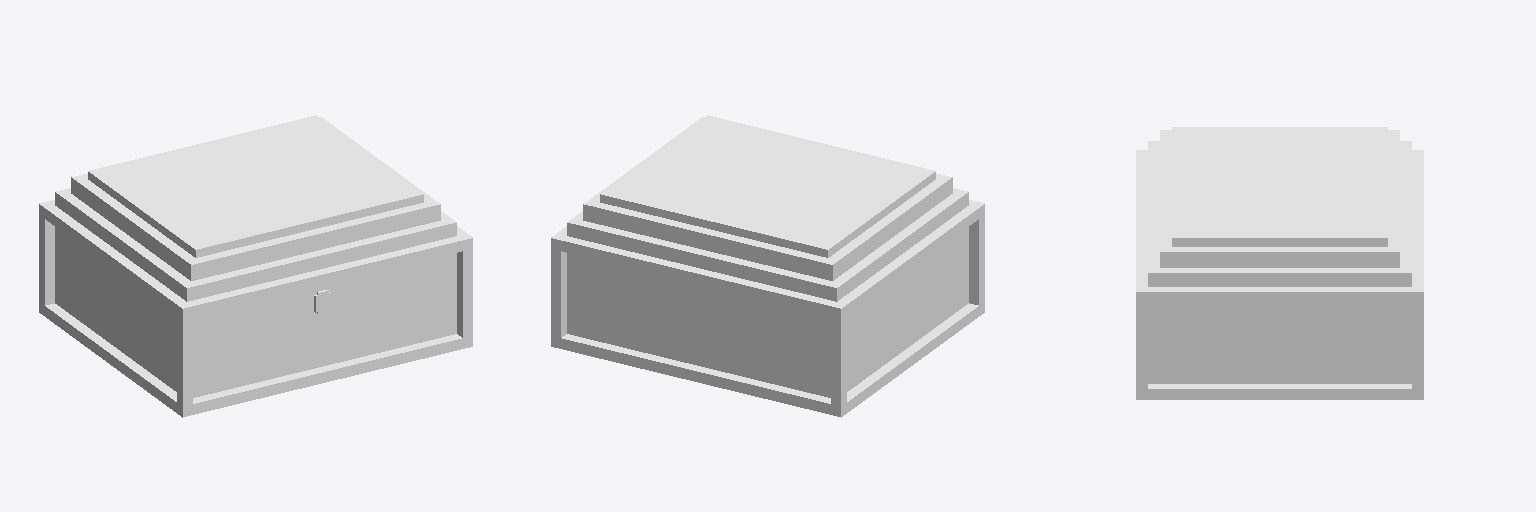
Rendered from ChestKeyhole.obj.
3 renders of one model, left to right at view 1: azimuth 30°, elevation 25°; view 2: azimuth 150°, elevation 25°; view 3: azimuth 270°, elevation 25°, orthographic.
Visible parts, largest first — view 1: object 1; view 2: object 1; view 3: object 1.
Part boxes in pixels (left/top/right/bottom): object 1: left=39, top=115, right=472, bottom=417; object 1: left=551, top=115, right=984, bottom=417; object 1: left=1136, top=127, right=1423, bottom=399.
Size of the model in its own units: 11.2 by 5.4 by 9.6.